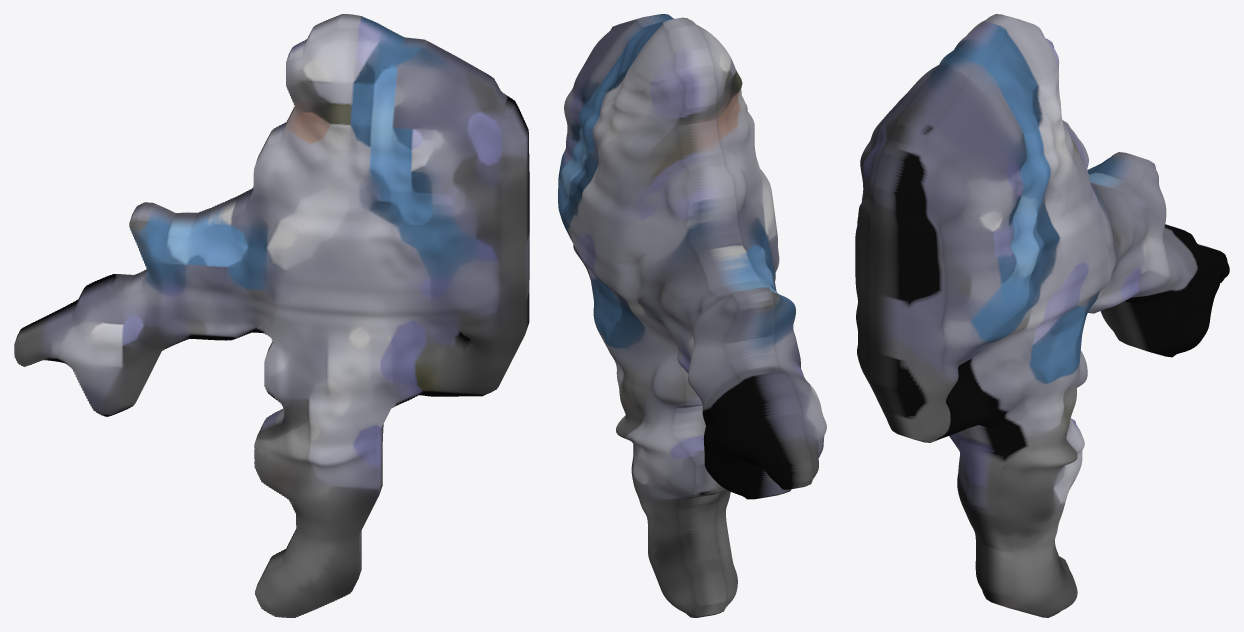
File: chrono_legionnaire.glb
The picture shows the model from 3 angles, left to right: view 1: azimuth 30°, elevation 25°; view 2: azimuth 150°, elevation 25°; view 3: azimuth 270°, elevation 25°; orthographic projection. The views are drawn at different scales.
Visible parts, largest first — view 1: chrono_legionnaire; view 2: chrono_legionnaire; view 3: chrono_legionnaire.
Part boxes in pixels (x1,y1,x2,y2): chrono_legionnaire: (14,14,529,617); chrono_legionnaire: (558,14,826,617); chrono_legionnaire: (855,14,1229,617).
Bounding box in the file's own units: 1.48 × 2.23 × 1.23.
